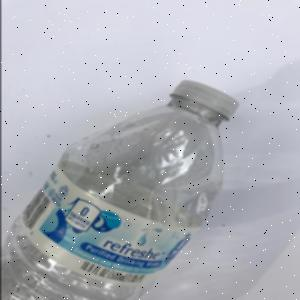Plastic-bottle: (1, 79, 241, 300)
